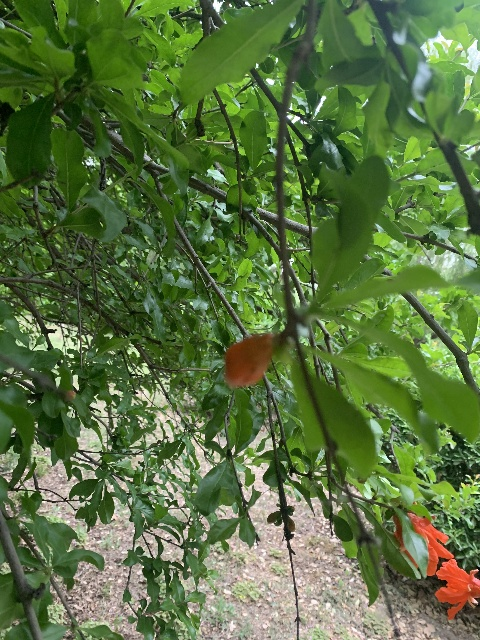bud: (223, 333, 273, 387)
flower: (392, 512, 453, 576), (434, 559, 480, 620)
